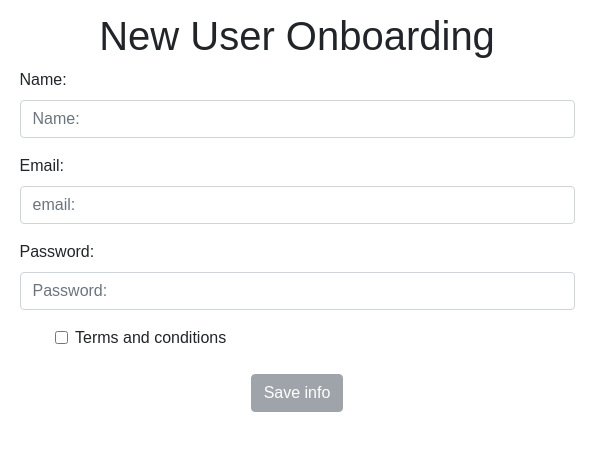
Test: Testing our Form › Get password attribute and inputs password
Type "password" into the password field with test id "password-input" at (298, 291), box [20,272,575,310]
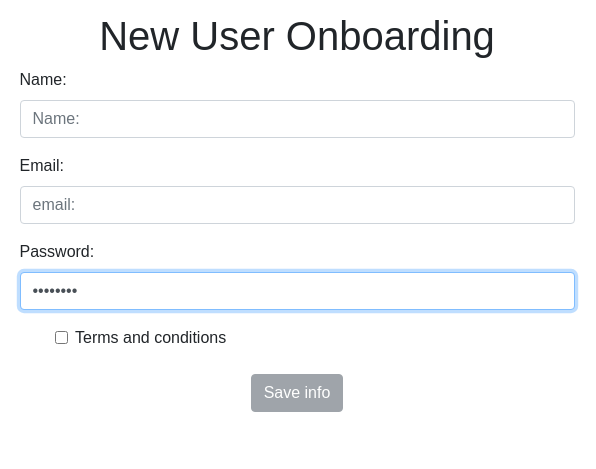
Type "123456" into the password field with test id "password-input" at (298, 291), box [20,272,575,310]
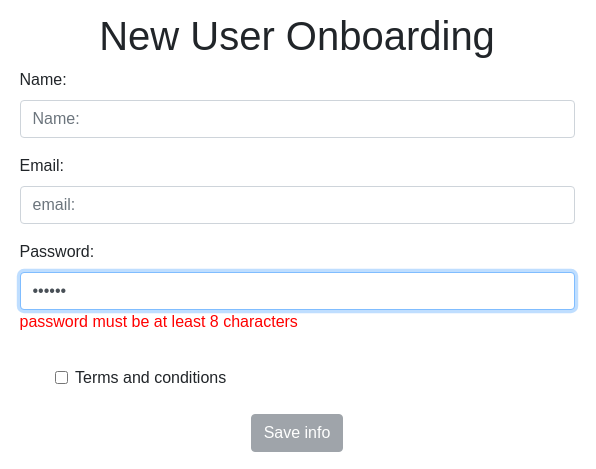
Now the password field with test id "password-input" holds "123456"
Now the text "password must be at least 8 characters" is shown, box [20,310,298,334]
Clear the password field with test id "password-input" at (298, 291), box [20,272,575,310]
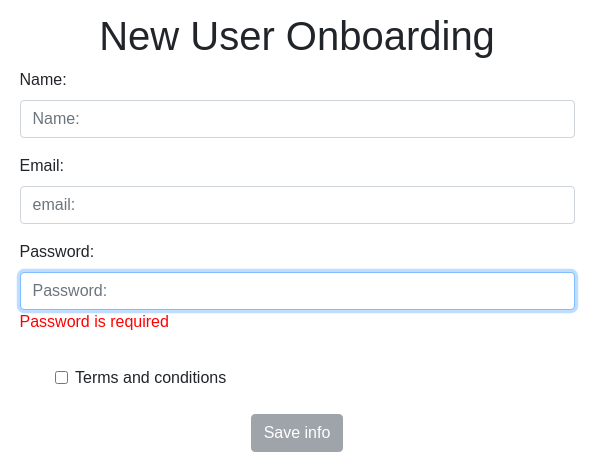
Expected: the button with test id "submit" is disabled, [251,414,344,452]
Now the text "Password is required" is shown, box [20,310,169,334]
